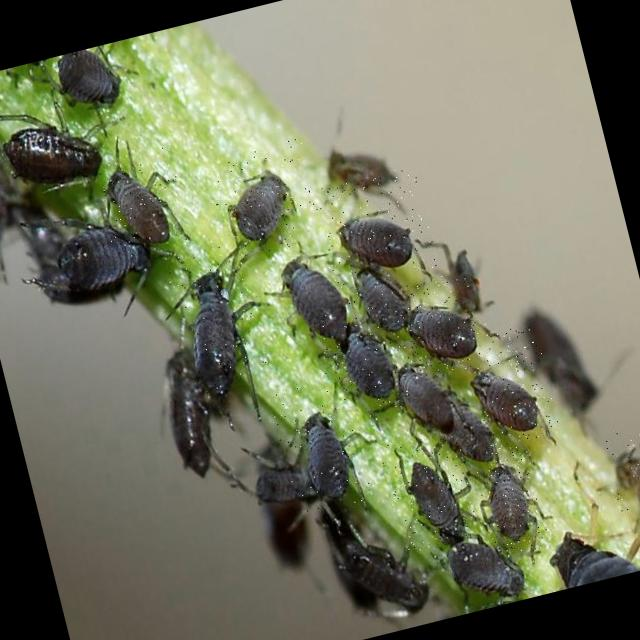aphid: (162, 239, 272, 398), (308, 165, 438, 292), (202, 137, 326, 264), (258, 230, 370, 370), (268, 376, 376, 516), (308, 291, 414, 424), (378, 426, 483, 554), (463, 322, 562, 451), (91, 144, 196, 261), (382, 270, 488, 384), (150, 346, 230, 482), (470, 439, 550, 558), (0, 111, 106, 199), (340, 245, 426, 345), (412, 222, 490, 324), (442, 528, 528, 612), (430, 386, 500, 474), (391, 357, 461, 444), (52, 43, 126, 117), (596, 418, 640, 513)
